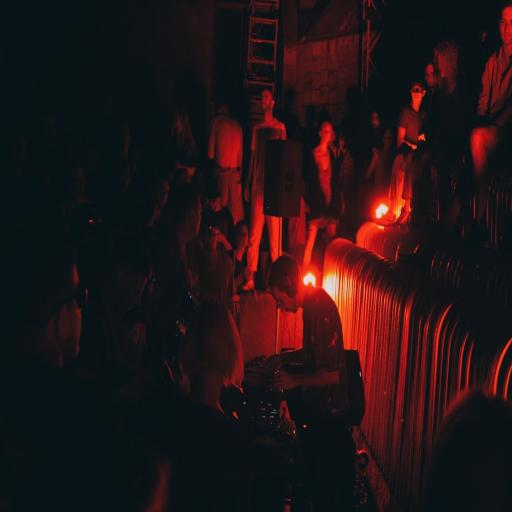face: (60, 295, 83, 366), (271, 287, 298, 312), (190, 197, 201, 237), (500, 7, 511, 46), (156, 180, 169, 209), (203, 227, 219, 250), (235, 226, 249, 248), (74, 167, 85, 195), (320, 122, 334, 144), (261, 91, 274, 112), (412, 84, 425, 104), (426, 64, 435, 89), (383, 129, 392, 147), (371, 111, 380, 129)
